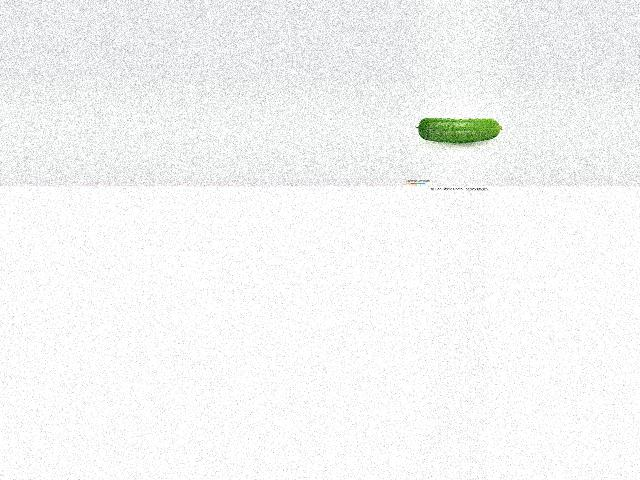cucumber: (415, 117, 503, 142)
